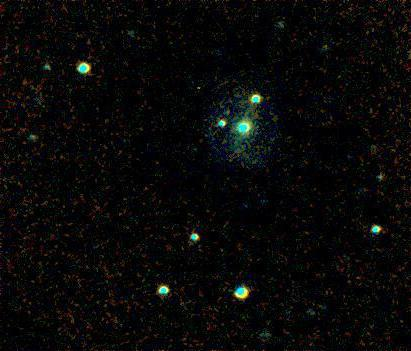star: (216, 96, 246, 126)
